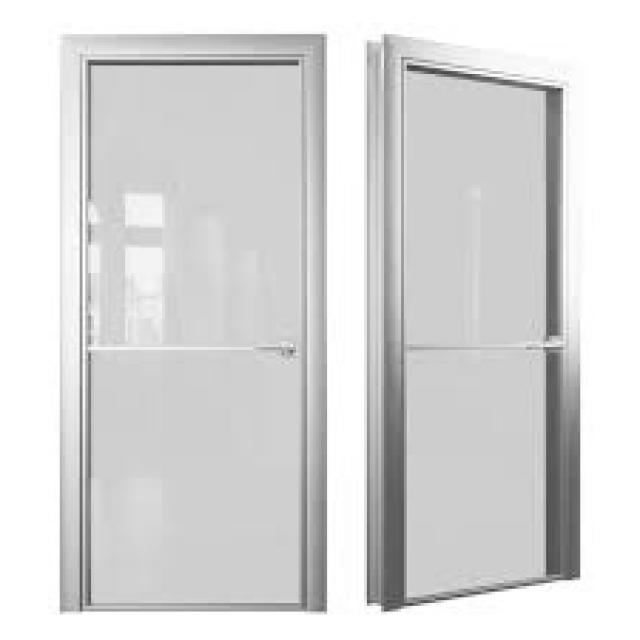door: (370, 36, 580, 610)
